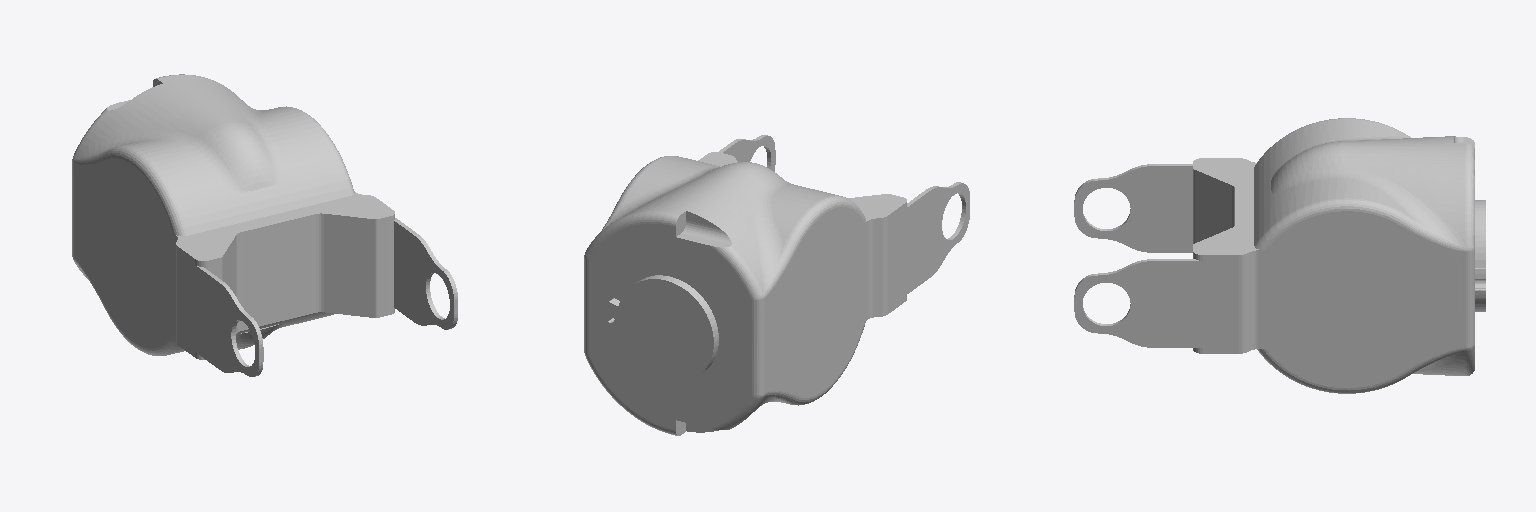
Rendered from openarm_right_link5_collision_mesh.obj.
3 renders of one model, left to right at view 1: azimuth 30°, elevation 25°; view 2: azimuth 150°, elevation 25°; view 3: azimuth 270°, elevation 25°, orthographic.
Size of the model in its own units: 0.0716 by 0.076 by 0.1282.